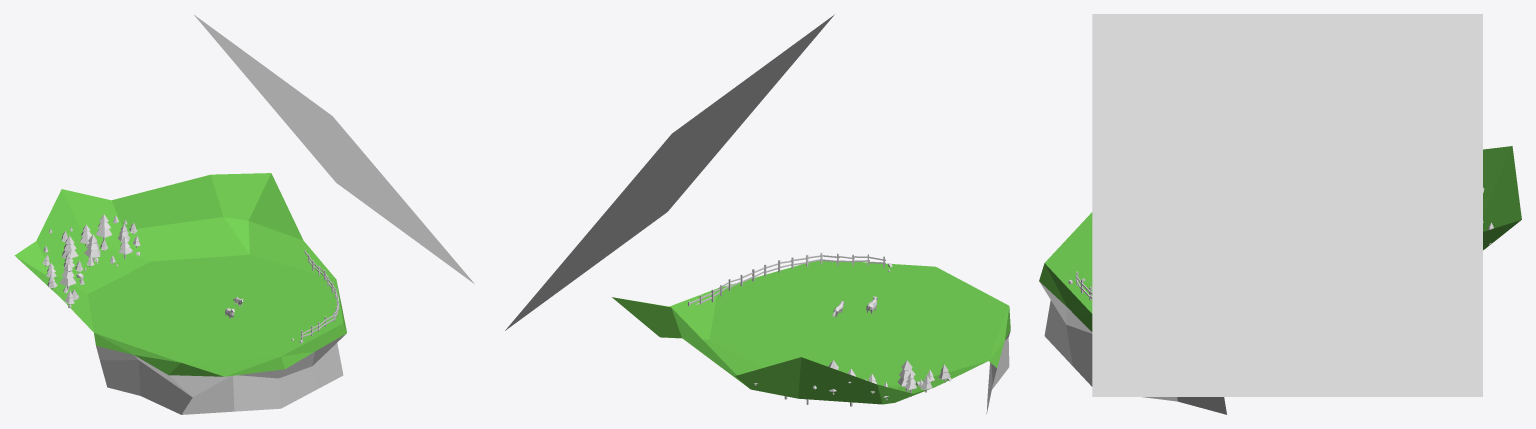
Rendered from plainterrain.fbx.
3 renders of one model, left to right at view 1: azimuth 30°, elevation 25°; view 2: azimuth 150°, elevation 25°; view 3: azimuth 270°, elevation 25°, orthographic. The views are drawn at different scales.
Visible parts, largest first — view 1: ziemia, swiatło; view 2: ziemia, swiatło; view 3: swiatło, ziemia.
Boxes of the visible parts, x1,y1,x2,y2 form: ziemia: (14, 173, 346, 414); swiatło: (194, 15, 474, 283); ziemia: (612, 260, 1010, 413); swiatło: (505, 14, 834, 330); swiatło: (1092, 14, 1482, 396); ziemia: (1039, 146, 1521, 414).
Size of what is drawn, in the model's own units: 2515 by 1889 by 2241.
